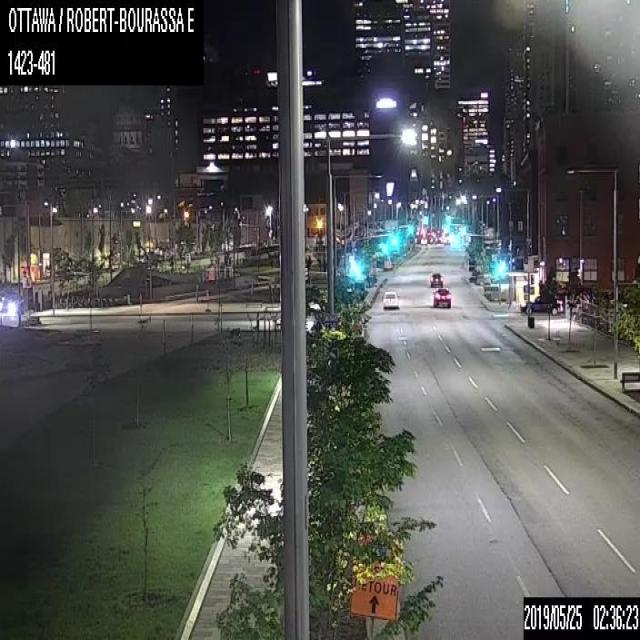construction: (350, 541, 403, 639)
vehicle: (519, 294, 562, 314), (431, 286, 450, 306), (381, 288, 398, 308), (430, 271, 442, 287)
